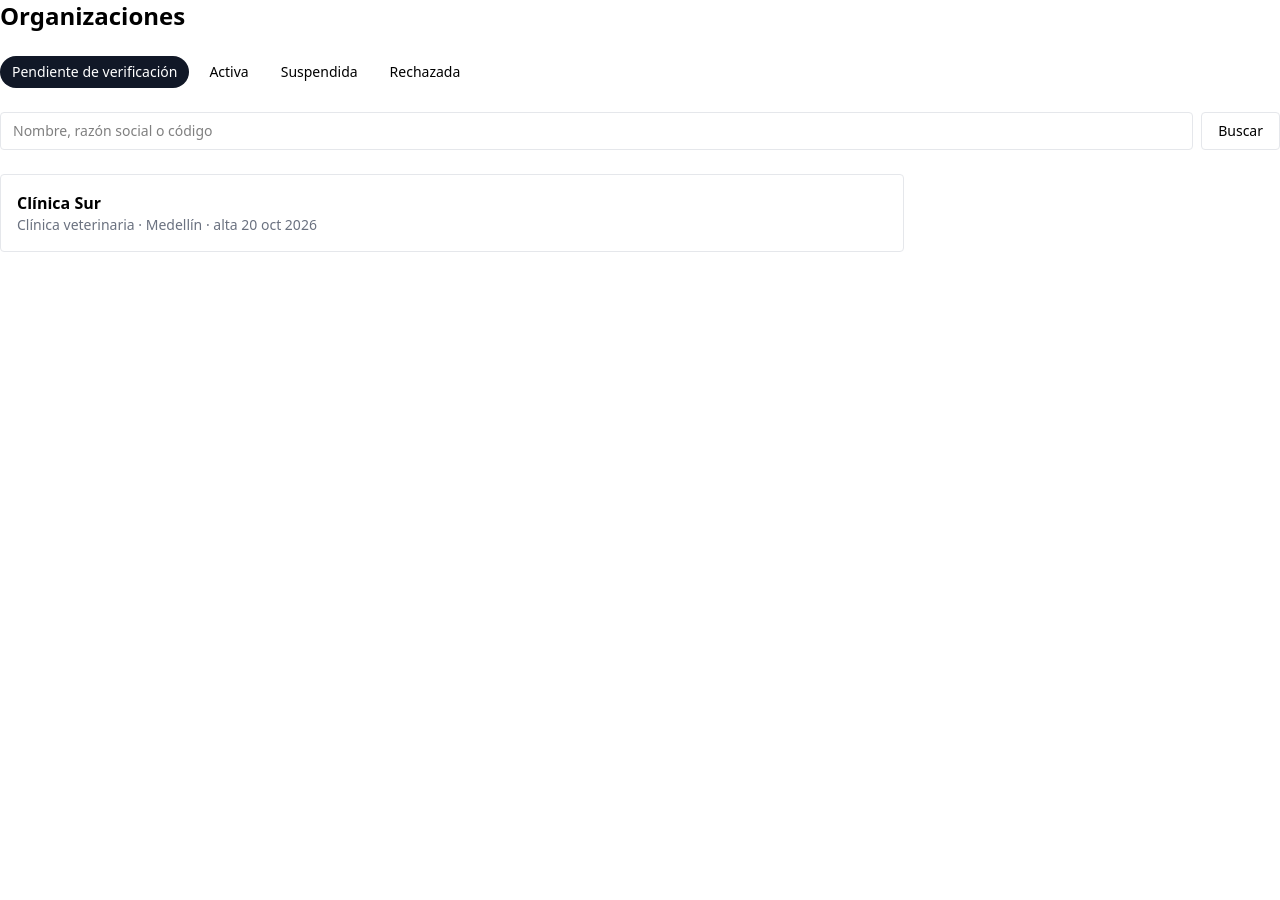
Test: AdminOrganizationsPage (FE-009, PRD-017) › verifica sin motivo (opcional) y la saca de la cola
Click the button with test id "org-row" at {"x": 59, "y": 203}, box [0,174,904,252]
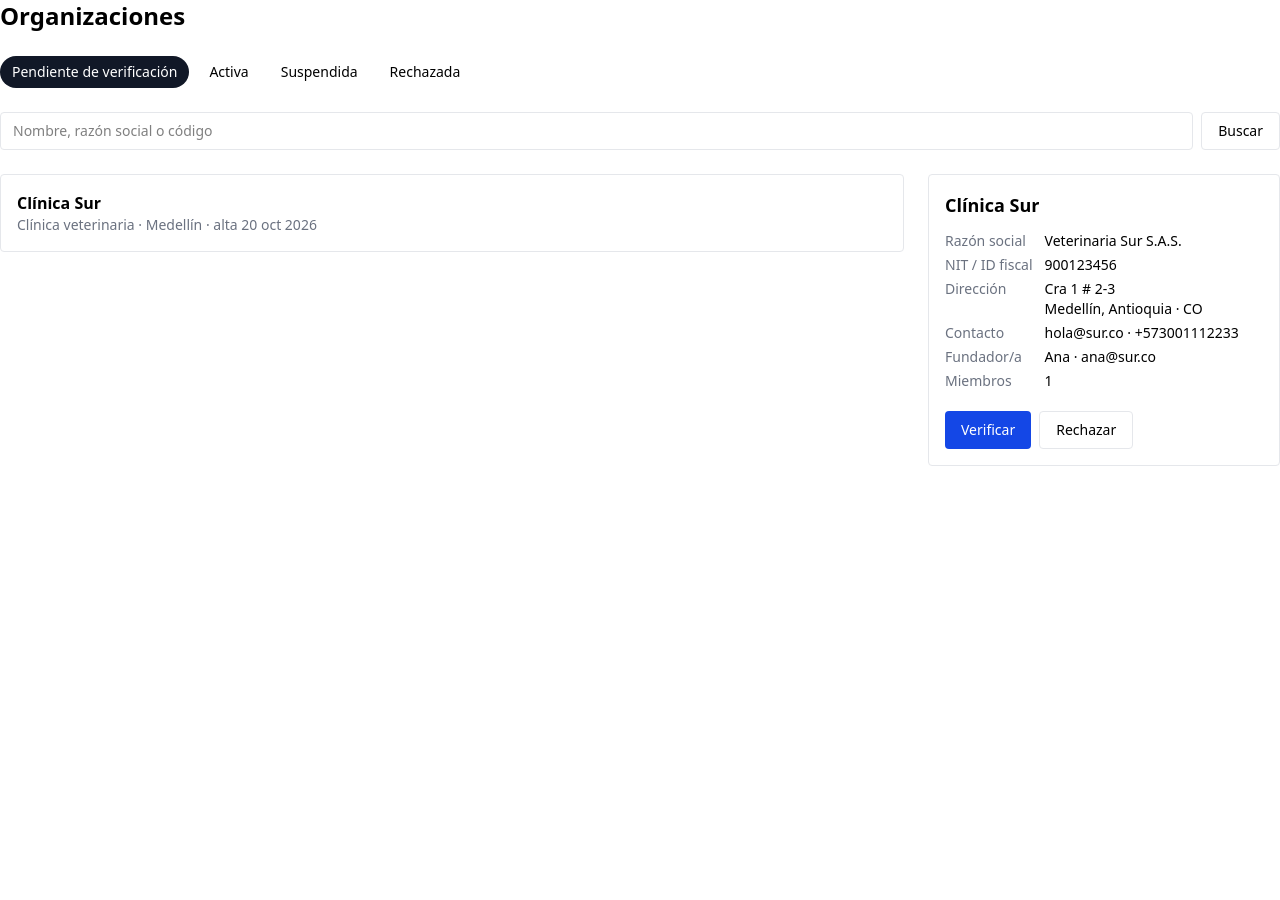
Click the button with test id "action-verify" at {"x": 988, "y": 430}, box [945,411,1031,449]
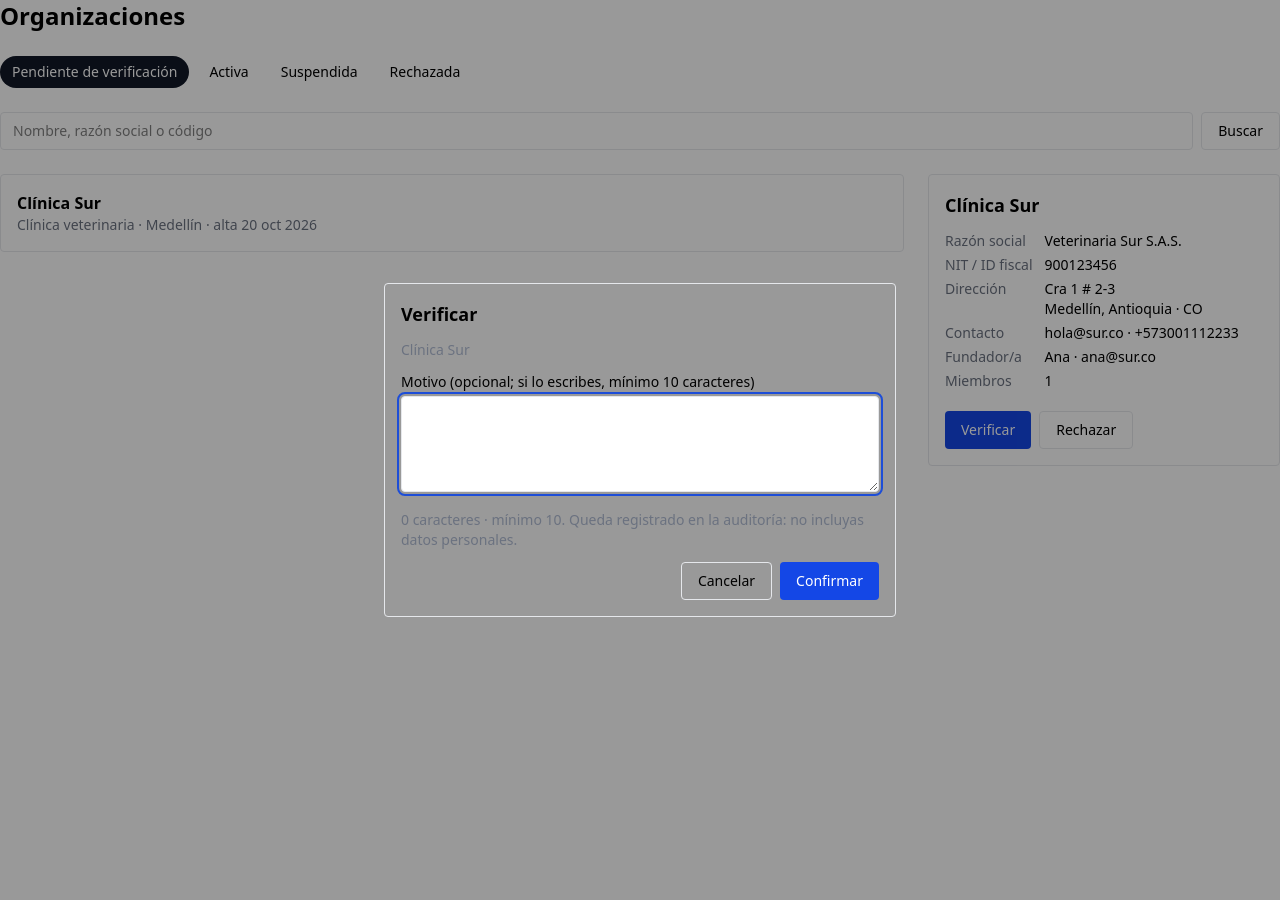
Submit the dialog with test id "reason-dialog", box [384,283,896,617]
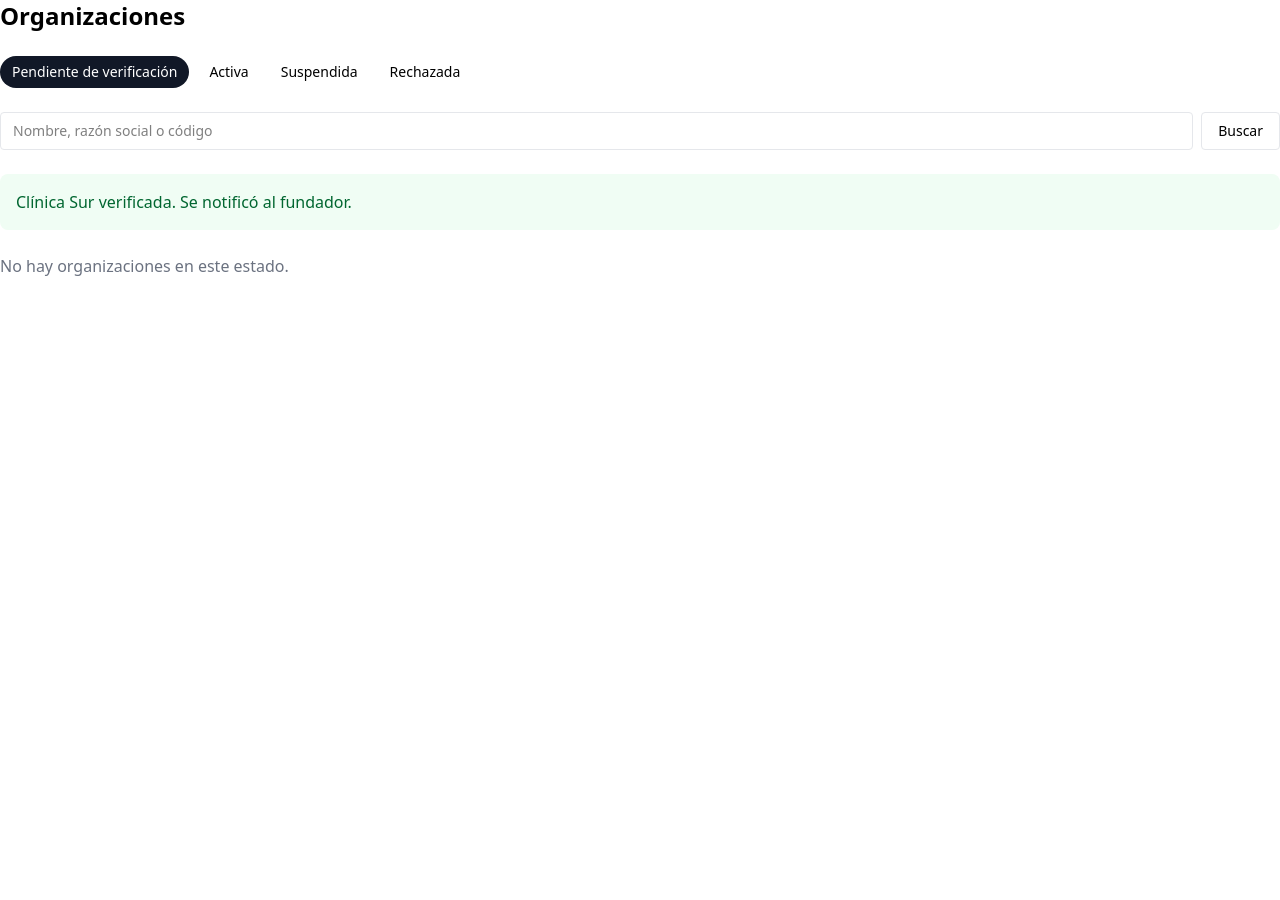
Expected: the text "Clínica Sur verificada" is shown, [16,191,352,213]
